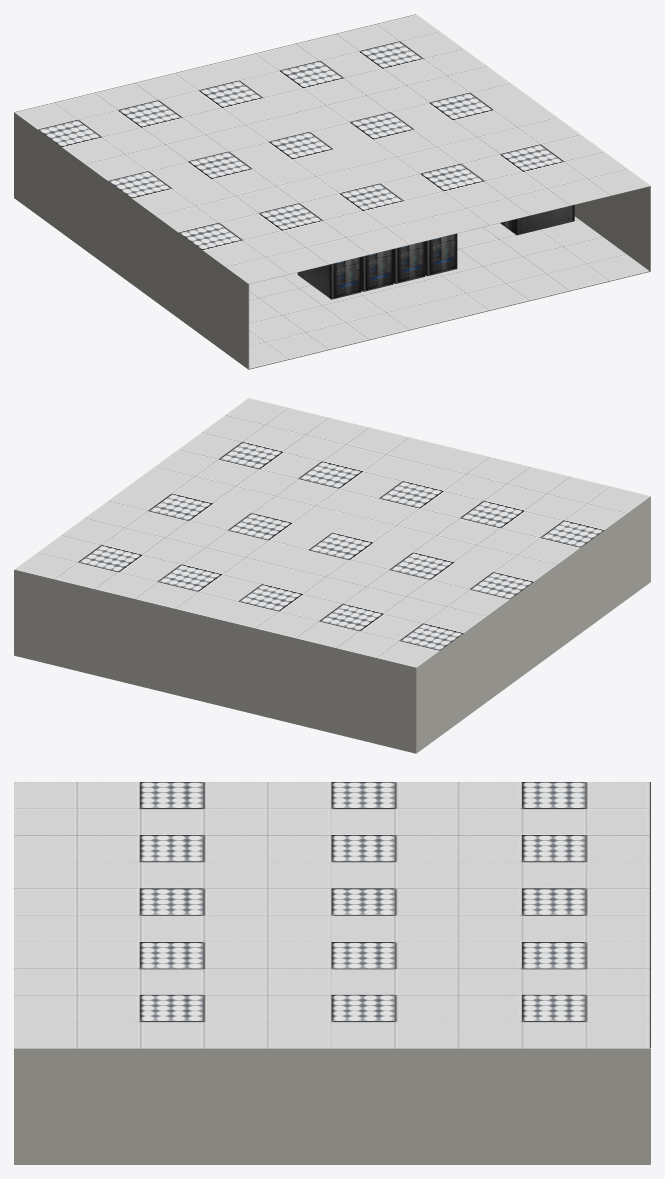
Rendered from server.fbx.
The picture shows the model from 3 angles, top to bottom: view 1: azimuth 30°, elevation 25°; view 2: azimuth 150°, elevation 25°; view 3: azimuth 270°, elevation 25°; orthographic projection. The views are drawn at different scales.
Parts seen in each view (by area): view 1: Cube, server, server.003; view 2: Cube; view 3: Cube.
Boxes of the visible parts, x1,y1,x2,y2 form: Cube: (14,14,650,369); server: (297,233,457,299); server.003: (500,205,574,235); Cube: (14,398,650,753); Cube: (14,782,650,1164).
Size of the model in its own units: 786 by 166 by 794.
